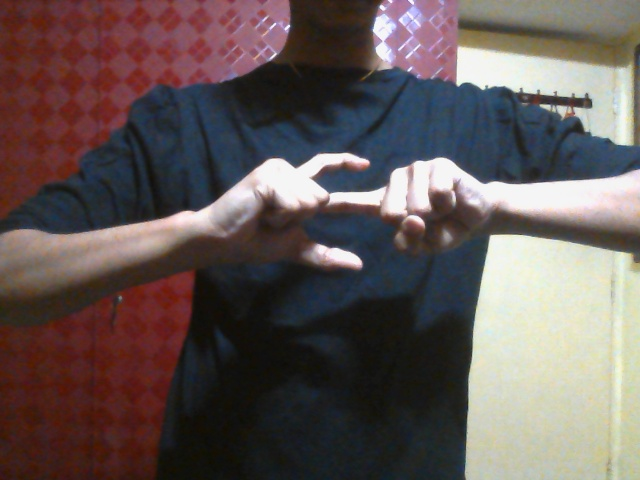E: (208, 151, 489, 284)
